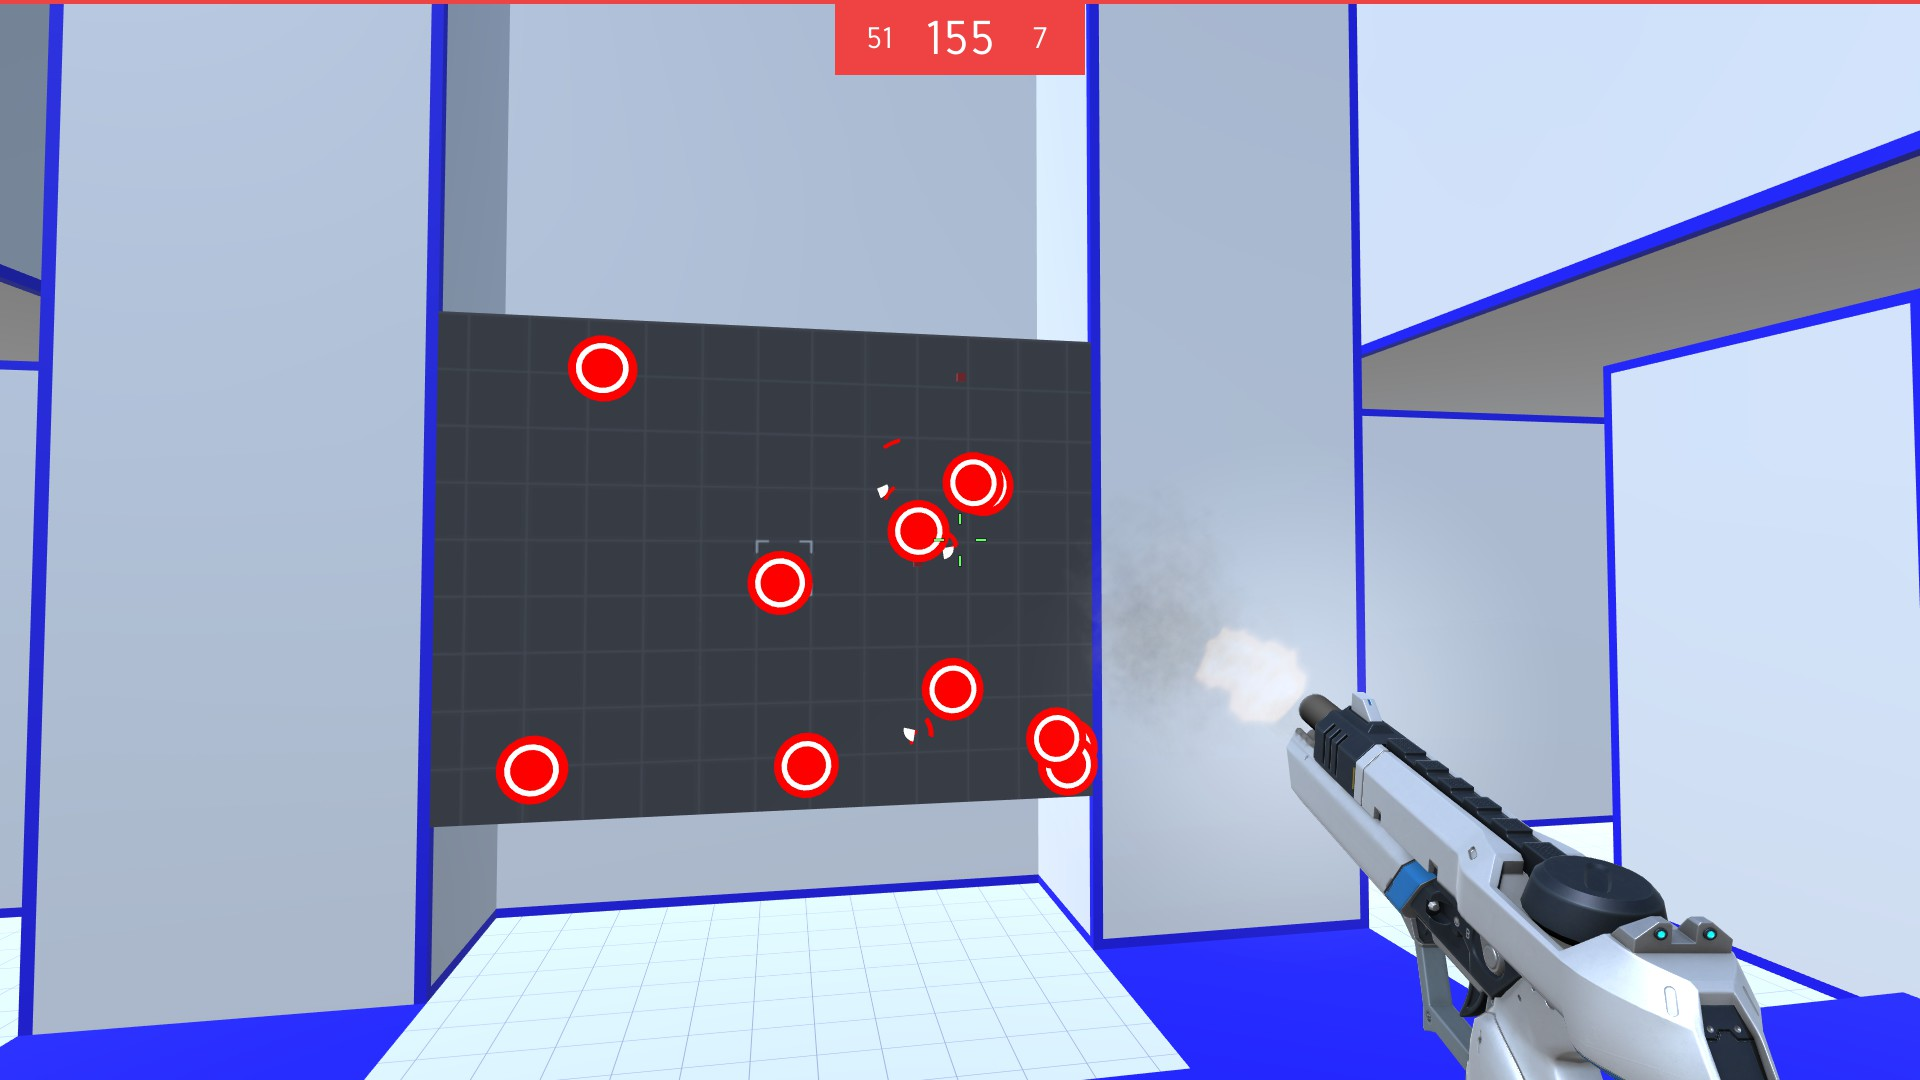target: (491, 735, 576, 807), (770, 731, 845, 804), (742, 547, 814, 618), (564, 338, 638, 406), (886, 498, 957, 568), (919, 655, 988, 723), (942, 448, 1005, 513), (1022, 705, 1087, 761), (1036, 740, 1096, 795)
